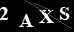2: (1, 5, 8, 21)
A: (17, 13, 35, 28)
S: (58, 5, 71, 21)
X: (37, 9, 55, 24)
